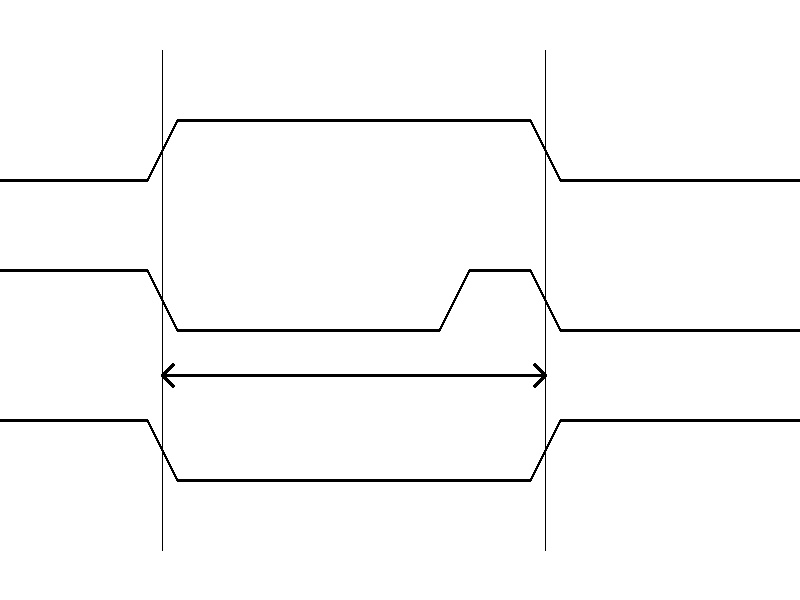double_arrow: (162, 360, 545, 390)
